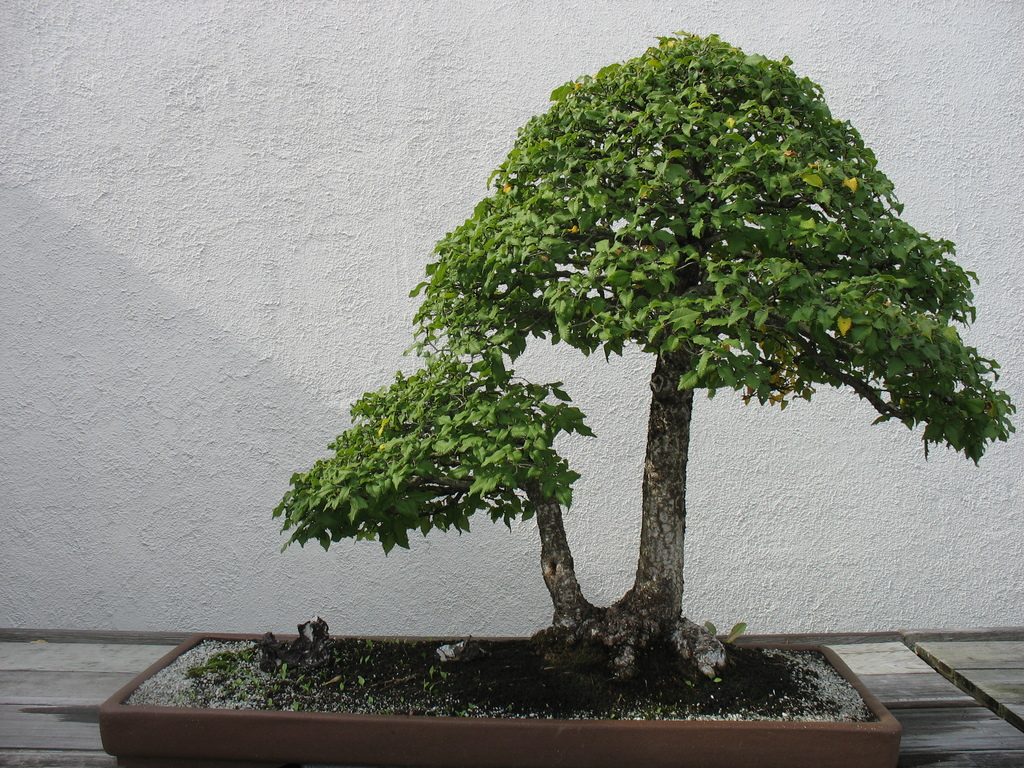Tree: (271, 30, 1016, 678)
